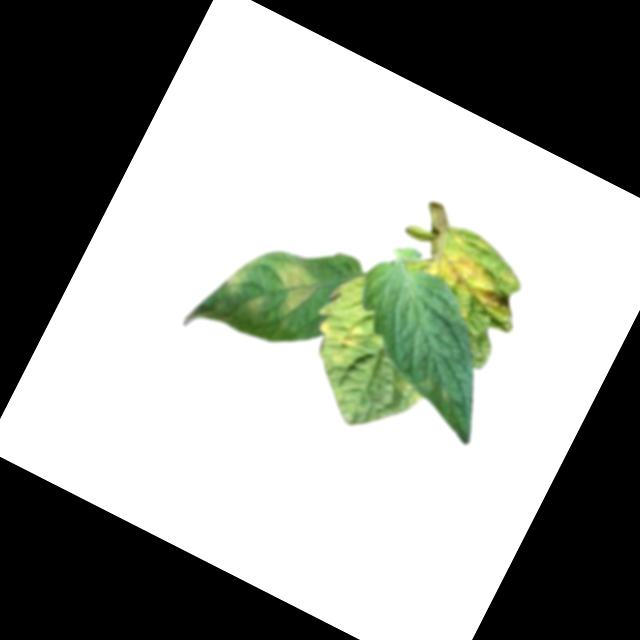Leaf_Mold: (391, 209, 541, 339), (253, 257, 322, 332), (303, 306, 369, 373)
